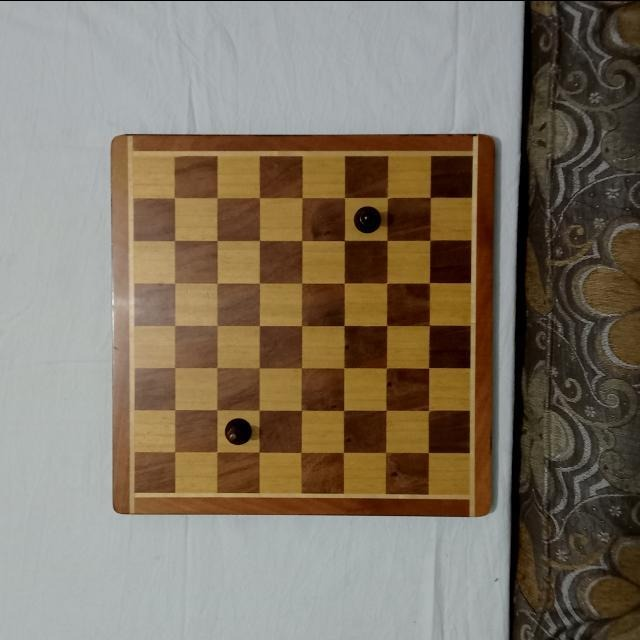black-pawn: (353, 204, 383, 234), (223, 417, 253, 447)
